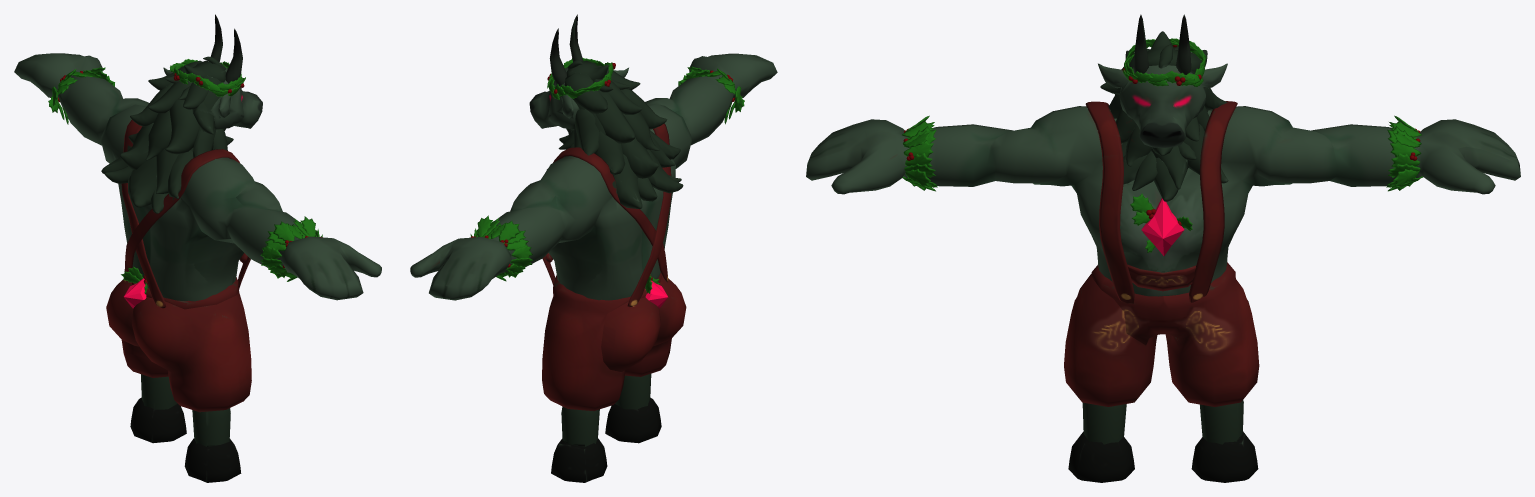
Rendered from trythis.fbx.
The picture shows the model from 3 angles, left to right: view 1: azimuth 30°, elevation 25°; view 2: azimuth 150°, elevation 25°; view 3: azimuth 270°, elevation 25°; orthographic projection. The views are drawn at different scales.
Parts seen in each view (by area): view 1: Cube.124; view 2: Cube.124; view 3: Cube.124.
Part boxes in pixels (x1,y1,x2,y2): Cube.124: [14, 14, 381, 482]; Cube.124: [410, 14, 777, 482]; Cube.124: [806, 14, 1520, 482].
Size of the model in its own units: 2605 by 1936 by 652.
Materials: 3 (3 with a texture image).
